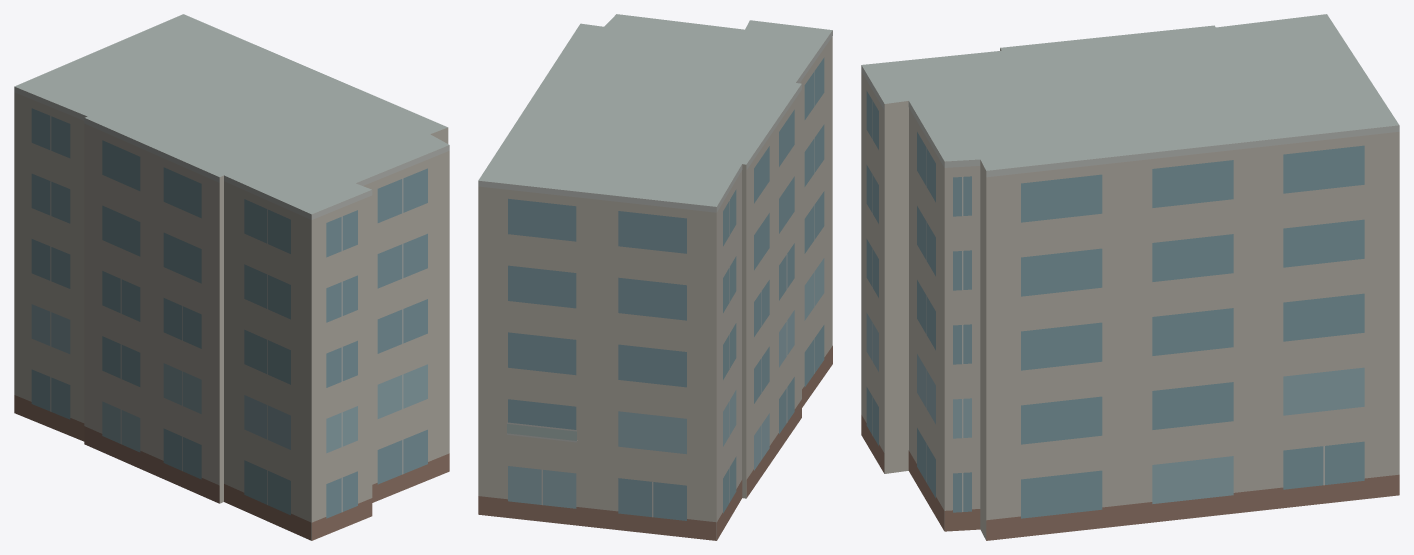
File: survey-upis-32586141.glb
3 renders of one model, left to right at view 1: azimuth 30°, elevation 25°; view 2: azimuth 150°, elevation 25°; view 3: azimuth 270°, elevation 25°, orthographic. The views are drawn at different scales.
Visible parts, largest first — view 1: survey-upis-32586141.tmp; view 2: survey-upis-32586141.tmp; view 3: survey-upis-32586141.tmp.
Part boxes in pixels (<box>): survey-upis-32586141.tmp: <box>14,14,449,540</box>; survey-upis-32586141.tmp: <box>478,14,832,540</box>; survey-upis-32586141.tmp: <box>861,14,1399,540</box>.
Bounding box in the file's own units: 12.74 × 14 × 18.47.
